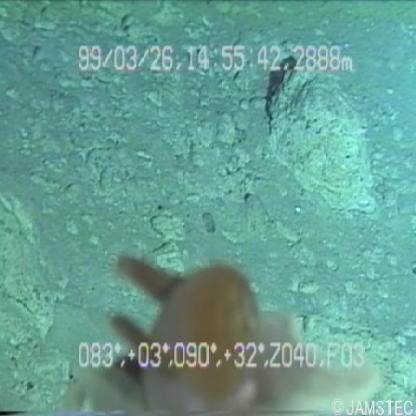Bio: (57, 247, 389, 416)
